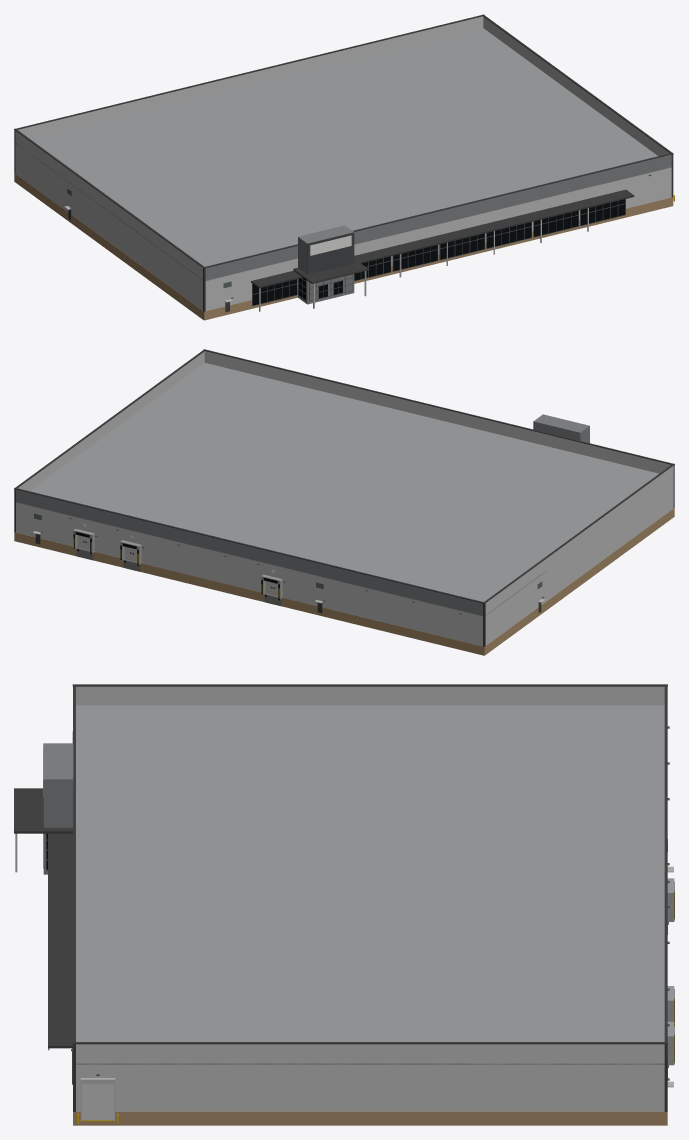
The model's file is context.industrial.supermarket.glb.
3 renders of one model, top to bottom at view 1: azimuth 30°, elevation 25°; view 2: azimuth 150°, elevation 25°; view 3: azimuth 270°, elevation 25°, orthographic. The views are drawn at different scales.
Visible parts, largest first — view 1: main__clad_999, main__clad_ccc, main__steel_444, main__clad_888, main__glass_dark, main__brick_a86, main__paint_555, main__clad_444, main__steel_bbb, main__paint_ddd; view 2: main__clad_999, main__clad_ccc, main__clad_888, main__brick_a86, main__steel_444, main__steel_9aa, main__paint_ccc; view 3: main__clad_999, main__clad_ccc, main__steel_444, main__brick_a86, main__clad_888, main__galv_ccc, main__steel_9aa.
Boxes of the visible parts, x1=… form: main__clad_999: x1=15, y1=28, x2=671, y2=280; main__clad_ccc: x1=15, y1=16, x2=671, y2=310; main__steel_444: x1=14, y1=14, x2=673, y2=311; main__clad_888: x1=205, y1=154, x2=671, y2=304; main__glass_dark: x1=252, y1=199, x2=625, y2=305; main__brick_a86: x1=14, y1=173, x2=673, y2=320; main__paint_555: x1=70, y1=174, x2=651, y2=306; main__clad_444: x1=307, y1=232, x2=354, y2=274; main__steel_bbb: x1=64, y1=206, x2=588, y2=311; main__paint_ddd: x1=310, y1=235, x2=351, y2=255; main__clad_999: x1=16, y1=363, x2=658, y2=616; main__clad_ccc: x1=16, y1=351, x2=673, y2=646; main__clad_888: x1=16, y1=414, x2=589, y2=615; main__brick_a86: x1=14, y1=508, x2=674, y2=655; main__steel_444: x1=14, y1=349, x2=674, y2=646; main__steel_9aa: x1=73, y1=528, x2=282, y2=599; main__paint_ccc: x1=78, y1=535, x2=277, y2=596; main__clad_999: x1=76, y1=705, x2=664, y2=1064; main__clad_ccc: x1=76, y1=686, x2=664, y2=1111; main__steel_444: x1=14, y1=684, x2=667, y2=1111; main__brick_a86: x1=73, y1=1111, x2=667, y2=1125; main__clad_888: x1=43, y1=743, x2=73, y2=874; main__galv_ccc: x1=82, y1=1084, x2=114, y2=1120; main__steel_9aa: x1=667, y1=878, x2=674, y2=1065.
Bounding box in the file's own units: 101 × 12.4 × 77.91.
